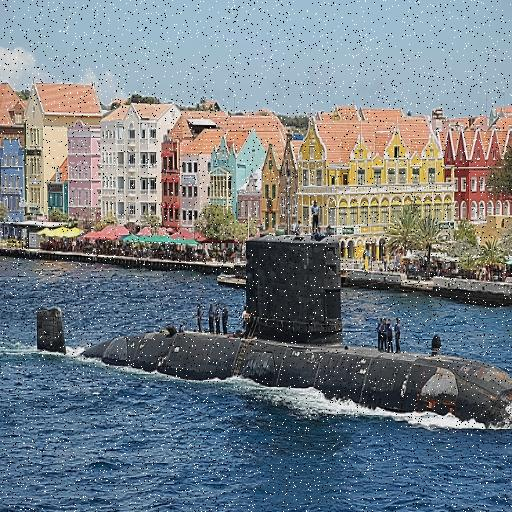submarine: (30, 237, 512, 430)
